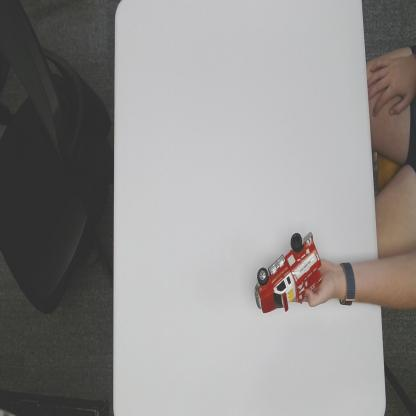Firetruck: (254, 232, 325, 314)
